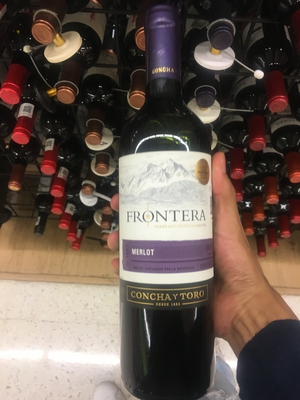frontera merlot: (98, 10, 224, 400)
